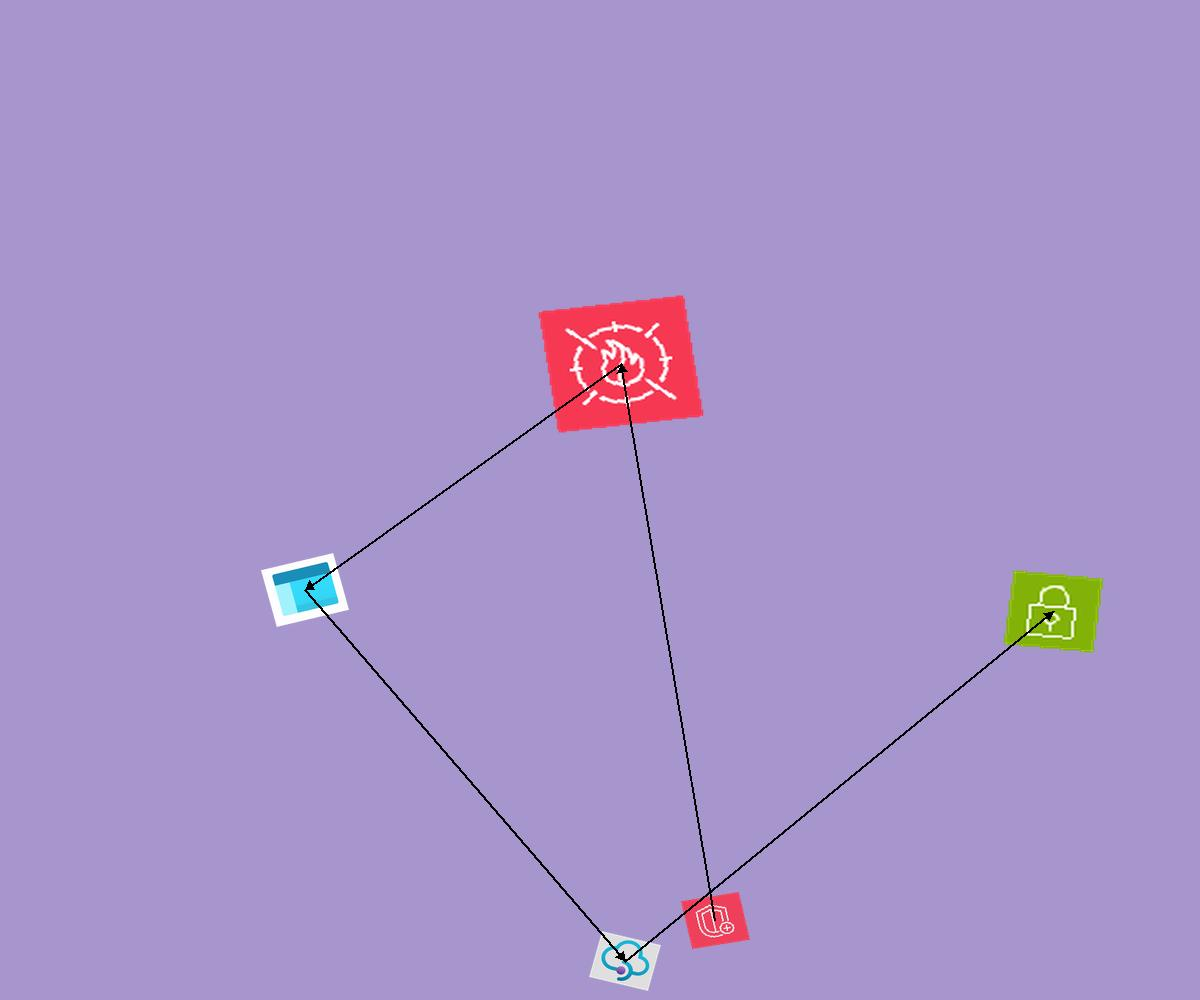AWS-Public-subnet: (1002, 569, 1105, 654)
AWS-Shield: (681, 892, 750, 949)
AWS-WAF: (537, 294, 705, 434)
Azure_api_gateway: (589, 931, 661, 991)
Azure_management-portal: (261, 553, 349, 627)
